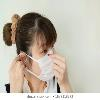Wearing Mask: (1, 9, 68, 100)
